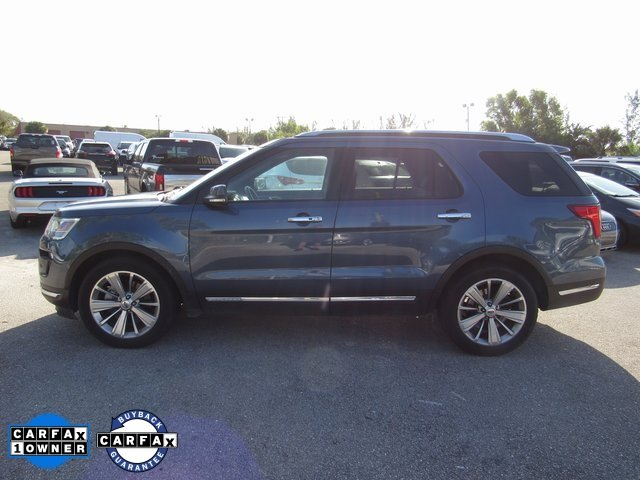Ford Explorer: (35, 126, 610, 358)
